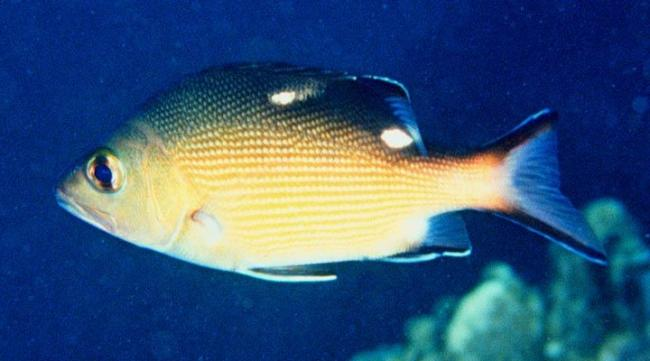fish: (53, 61, 610, 284)
